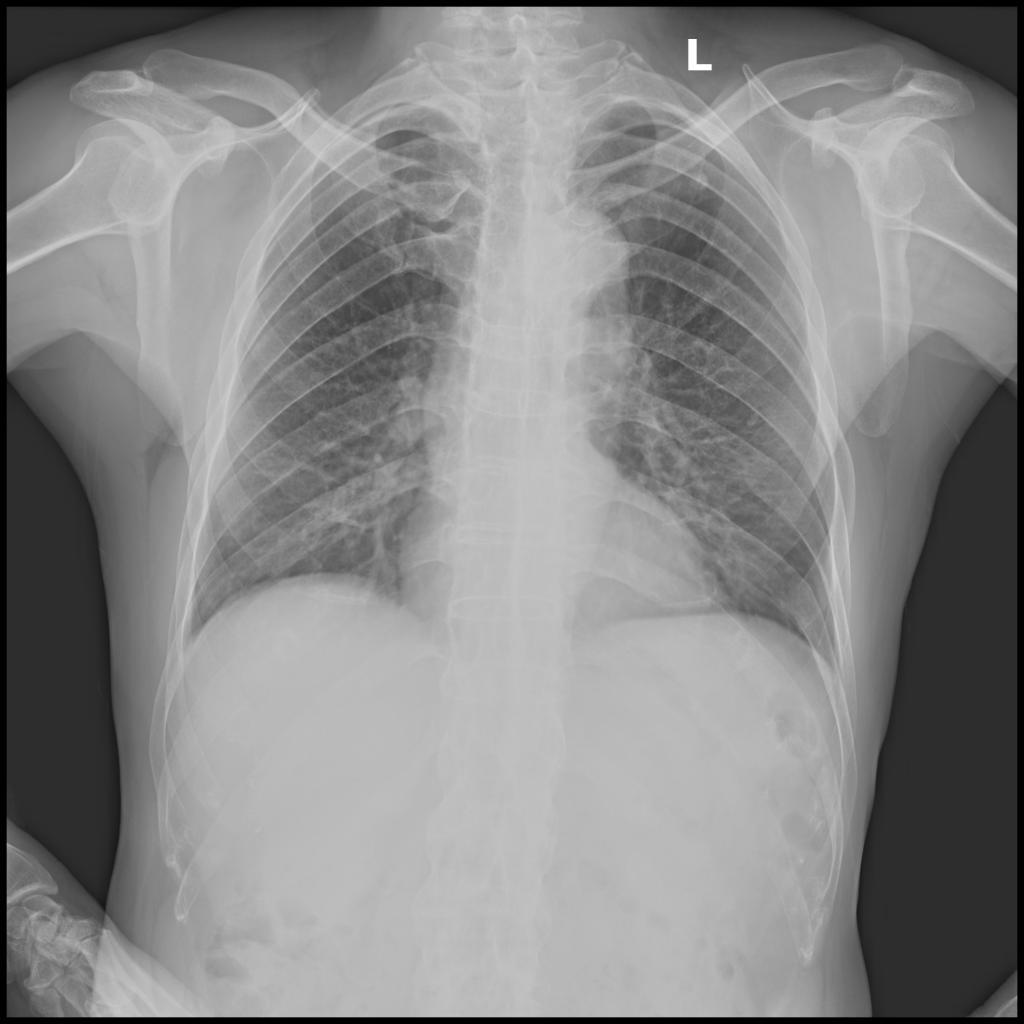Nodule: (691, 173, 710, 190)
